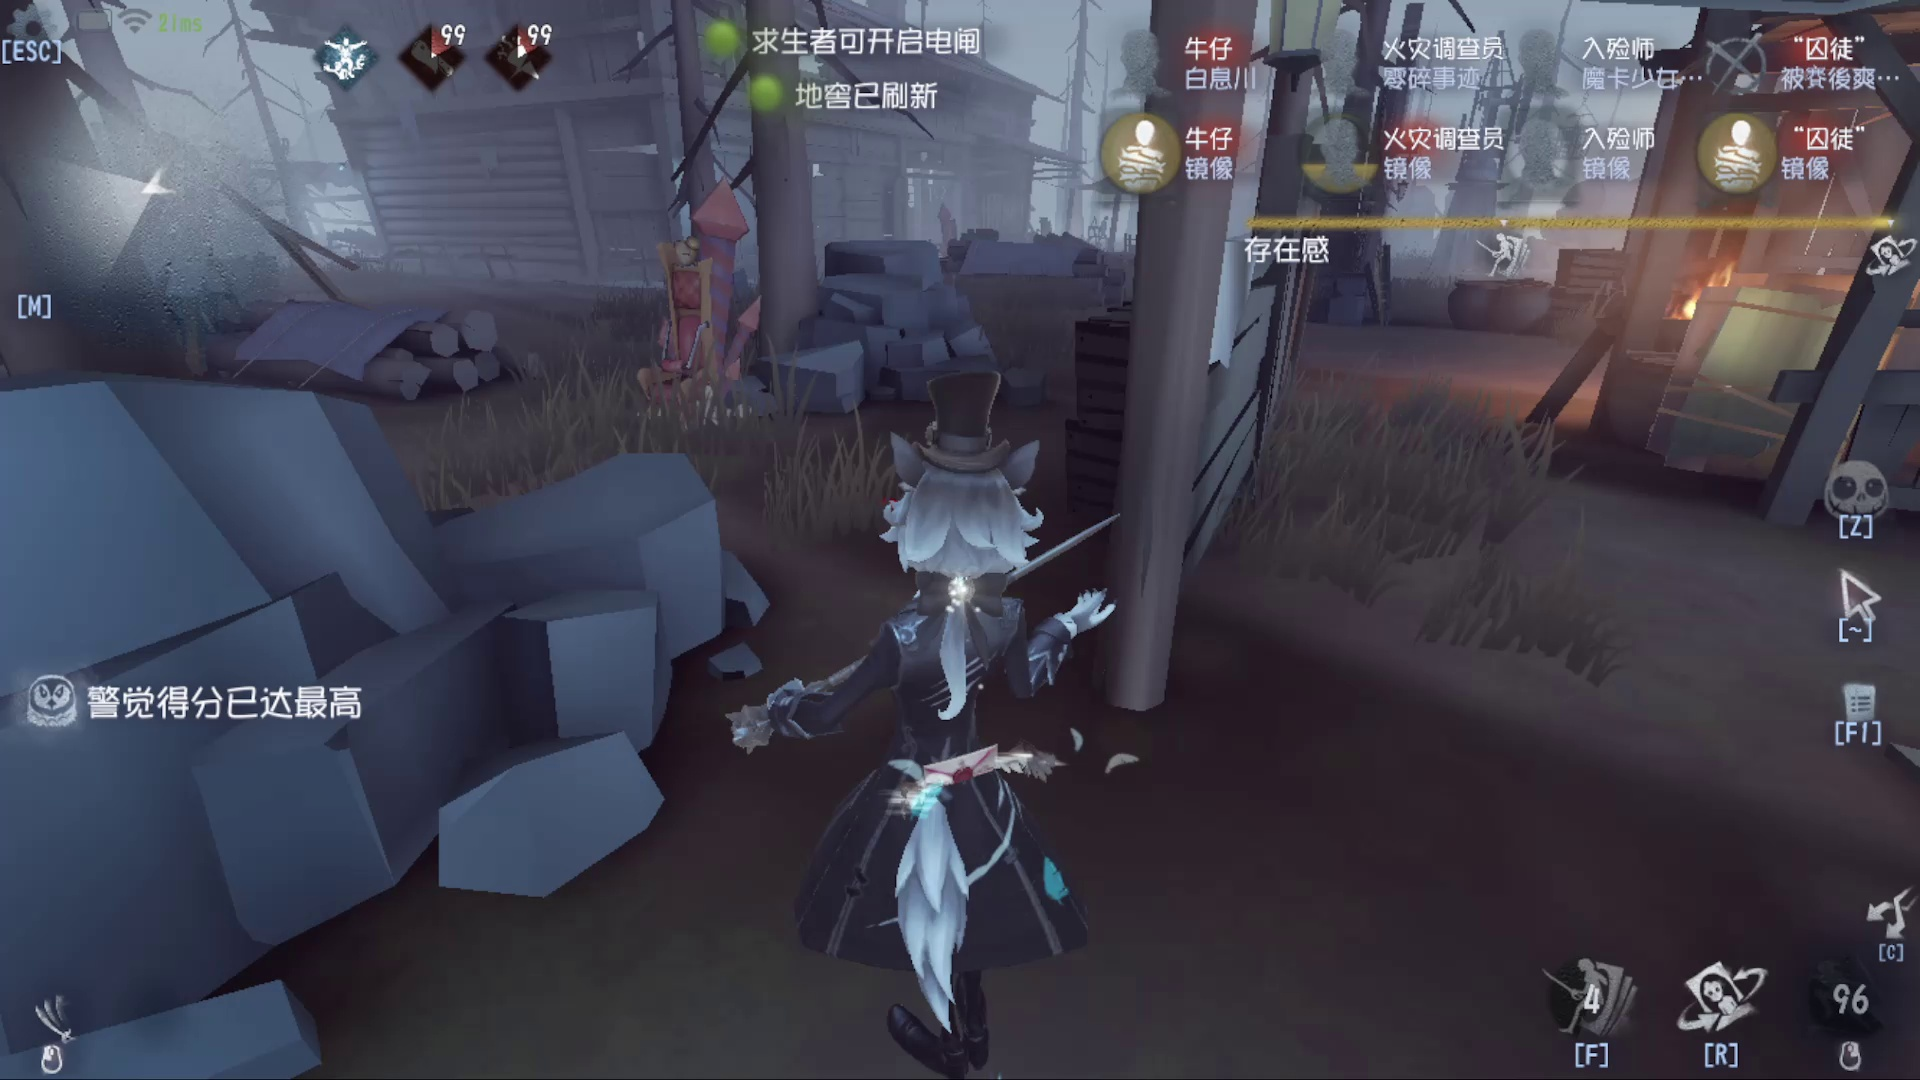木板: (1633, 256, 1832, 514)
狂欢之椅: (601, 179, 770, 419)
